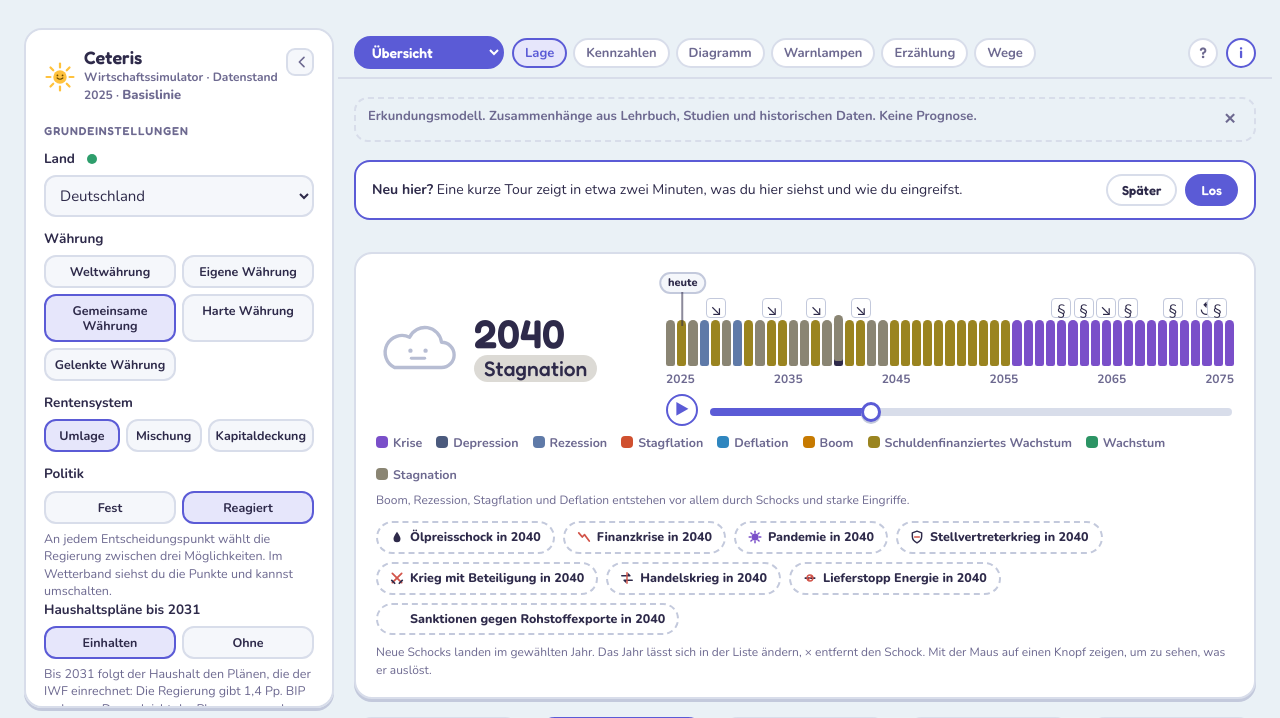
Test: Annahmen-Ansicht › zeigt Kritikpunkte, Wirkstärken mit Quelle und die Datenlage, je über eine Pille
The image size is (1280, 718).
Select "Annahmen" in the dropdown named "Ansichten" at (429, 52), box [354,36,504,69]
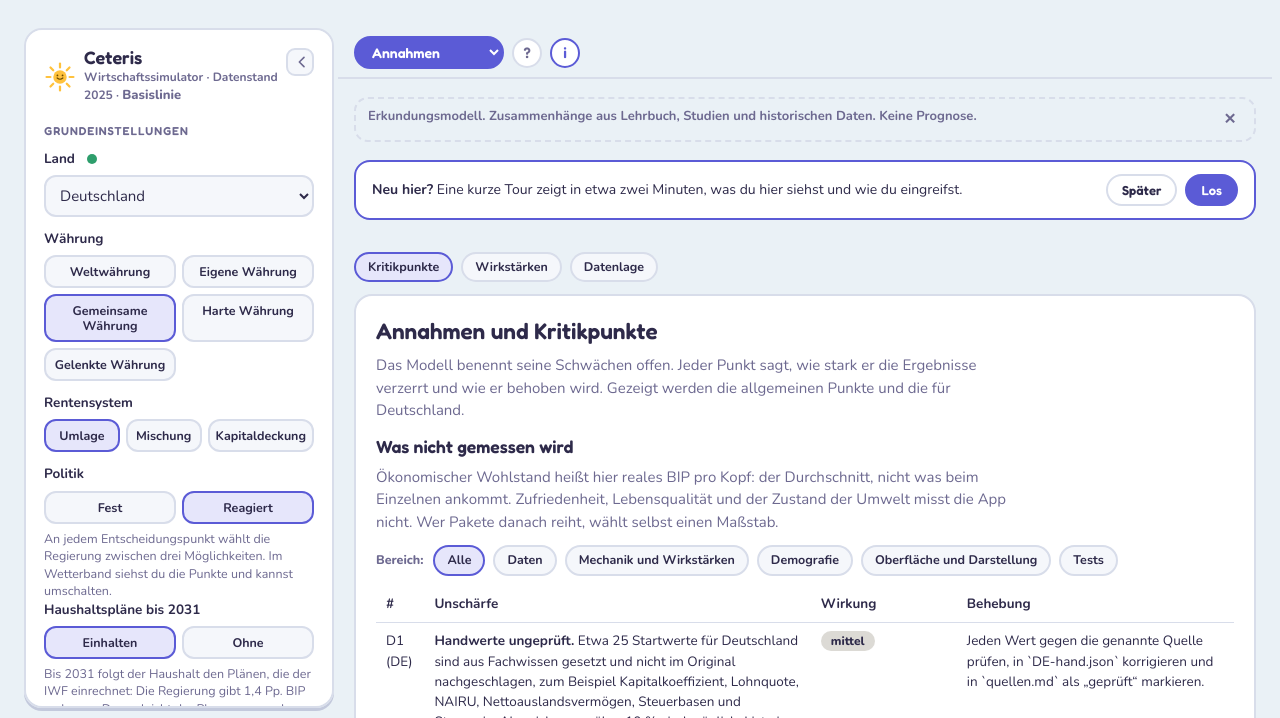
Now the heading "Annahmen und Kritikpunkte" is shown, box [376,317,658,344]
Now the text "Handwerte ungeprüft." is shown, box [434,631,574,650]
Click the button "Wirkstärken" at (512, 267), box [461,252,562,282]
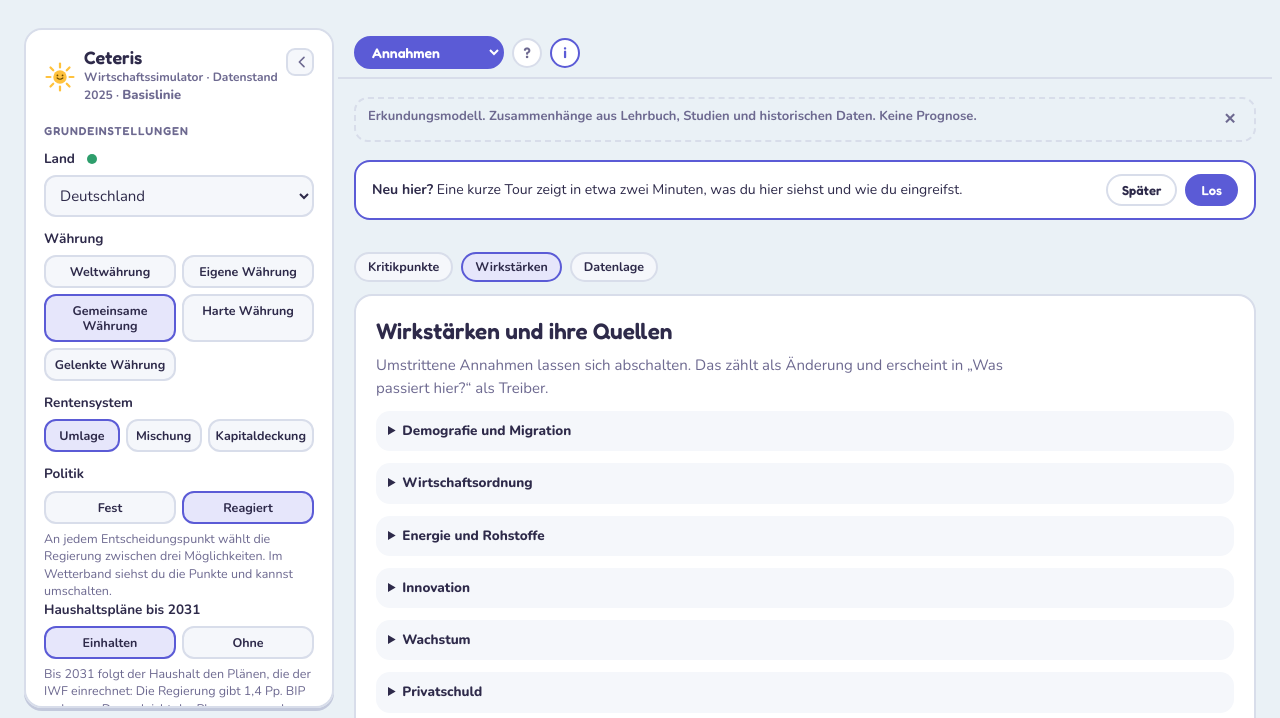
Now the heading "Annahmen und Kritikpunkte" is gone
Click the button "Datenlage" at (614, 267), box [570,252,658,282]
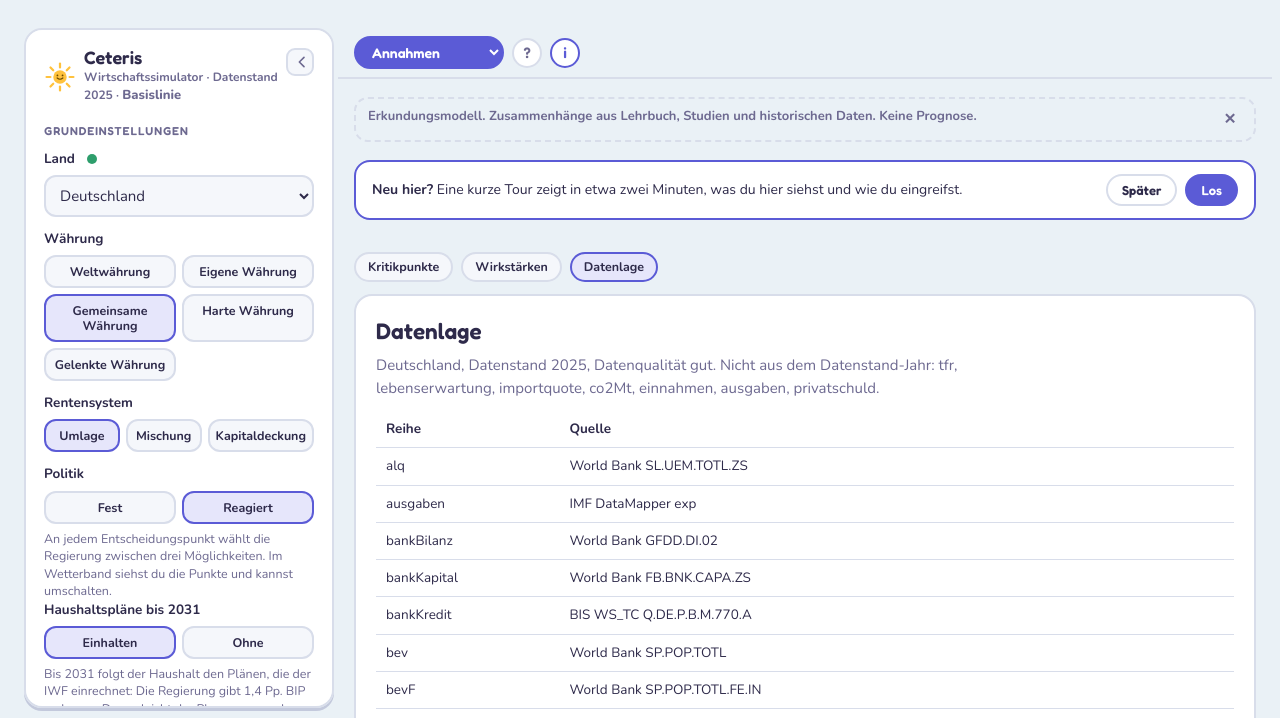
Now the heading "Datenlage" is shown, box [376,317,482,344]
